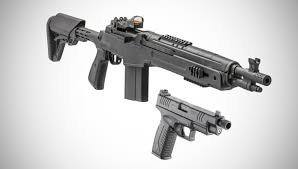gun: (43, 11, 272, 104), (149, 87, 233, 160)
